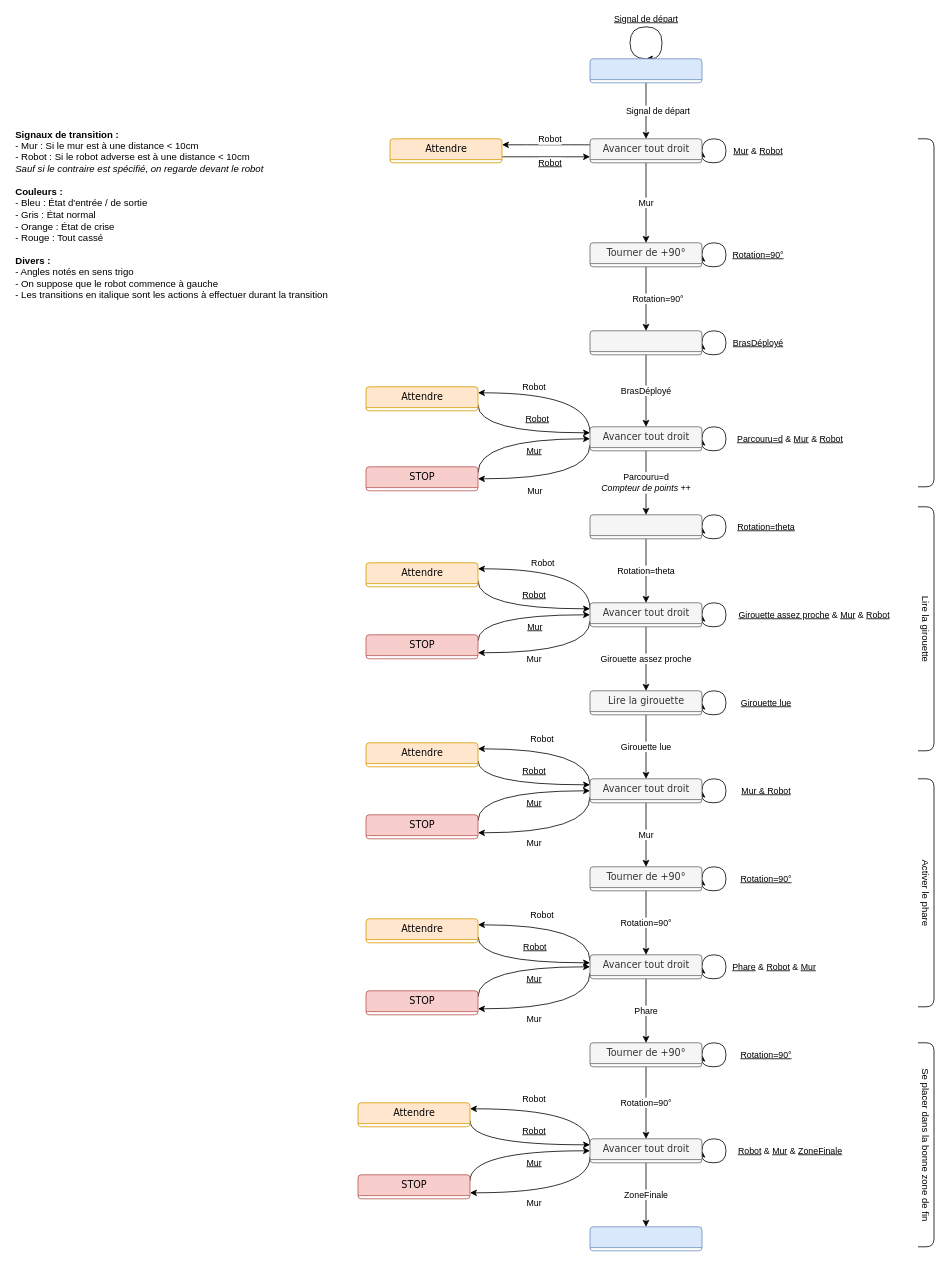
Some shapes in this 948 by 1265 pixel diagram are drawn without their labels. The centre of each missing label's shape, as x and y in pixels:
"Attendre le démarrage" goes at (645,70).
"Déployer le bras" goes at (645,342).
"Hisser les manches à air" goes at (925,312).
"Position finale au port" goes at (645,1238).
"Rotation de +theta" goes at (645,526).
